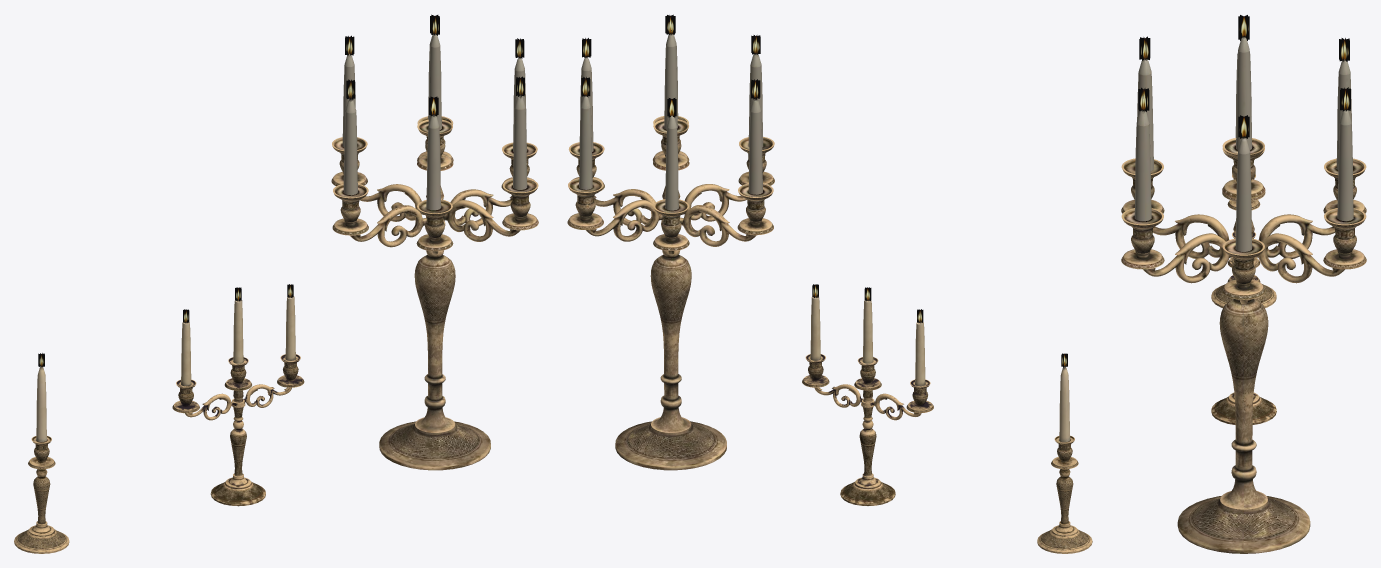
The model's file is candles-brass.glb.
The picture shows the model from 3 angles, left to right: view 1: azimuth 30°, elevation 25°; view 2: azimuth 150°, elevation 25°; view 3: azimuth 270°, elevation 25°; orthographic projection. The views are drawn at different scales.
Visible parts, largest first — view 1: brass_candleholder_03, brass_candleholder_02, brass_candleholder_01; view 2: brass_candleholder_03, brass_candleholder_02, brass_candleholder_01; view 3: brass_candleholder_03, brass_candleholder_02, brass_candleholder_01.
Part boxes in pixels (x1,y1,x2,y2): brass_candleholder_03: (38,14,538,470); brass_candleholder_02: (172,295,304,506); brass_candleholder_01: (14,366,69,553); brass_candleholder_03: (567,14,1067,470); brass_candleholder_02: (802,296,933,505); brass_candleholder_01: (1037,363,1092,553); brass_candleholder_03: (1121,15,1366,553); brass_candleholder_02: (1211,232,1276,424); brass_candleholder_01: (1211,174,1276,307).
Size of the model in its own units: 1.05 by 0.8353 by 0.3647.
5 materials, 5 textured.
